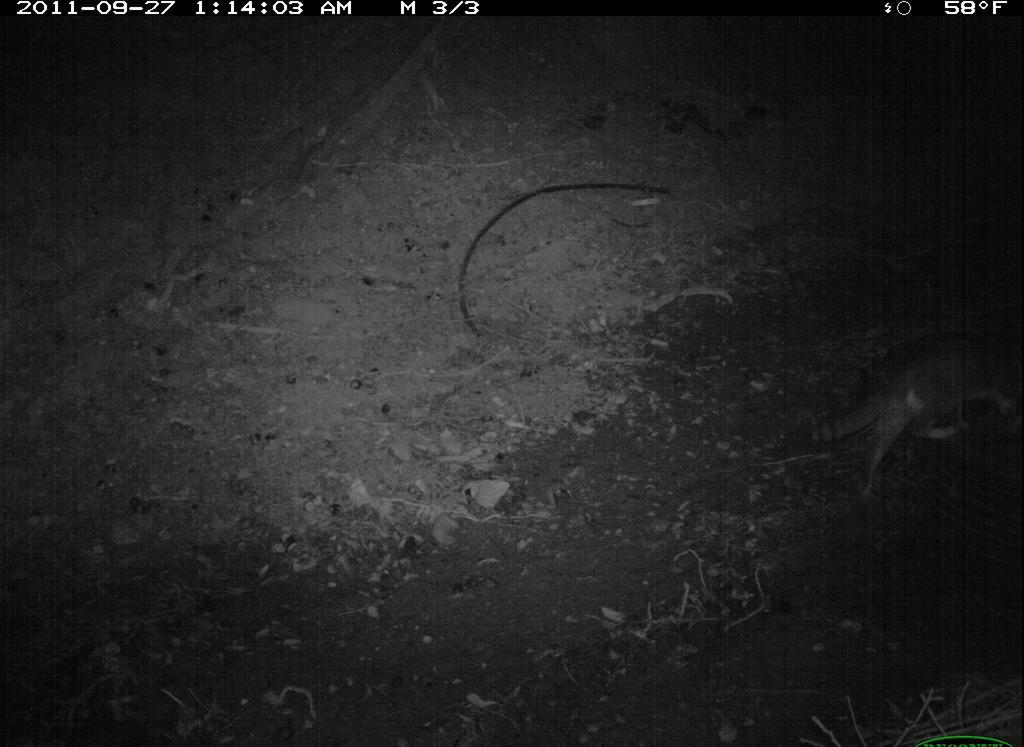cat: (792, 318, 1023, 513)
